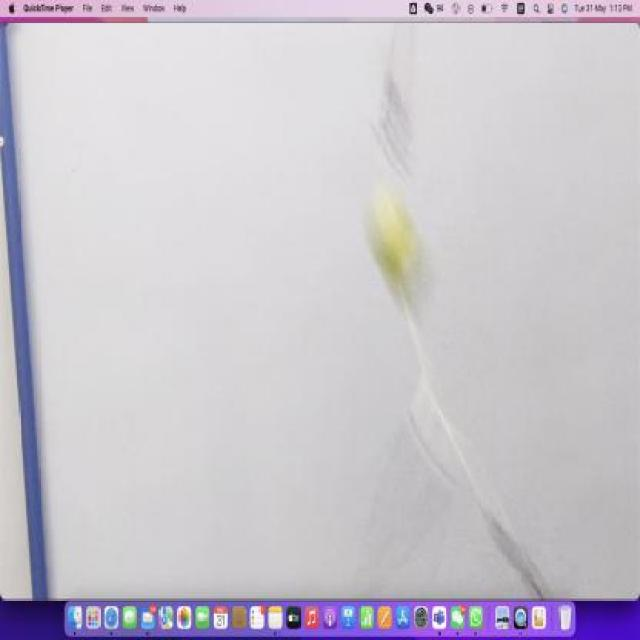baseball: (360, 180, 432, 308)
